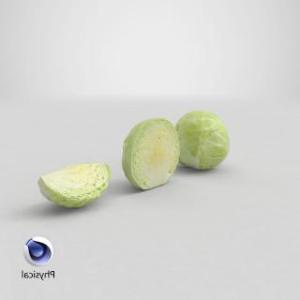cabbage: (120, 118, 182, 190), (38, 163, 112, 211), (175, 110, 229, 172)
